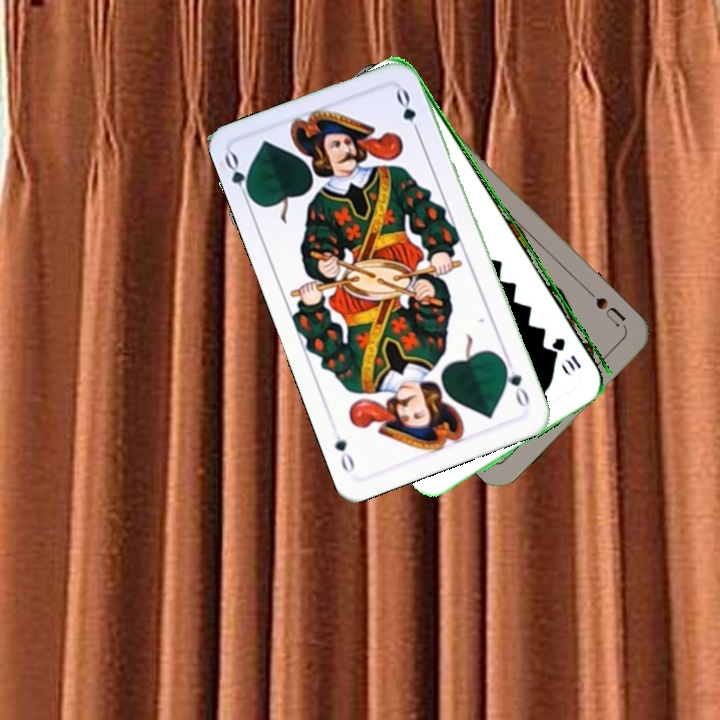G10: (550, 333, 584, 374)
GO: (220, 148, 256, 206), (498, 356, 532, 412)
SU: (584, 286, 630, 334)
